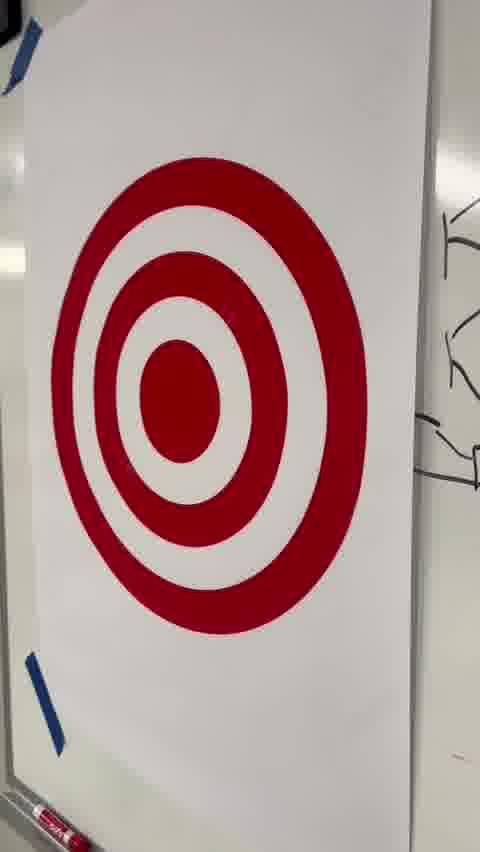target_red: (51, 155, 368, 635)
